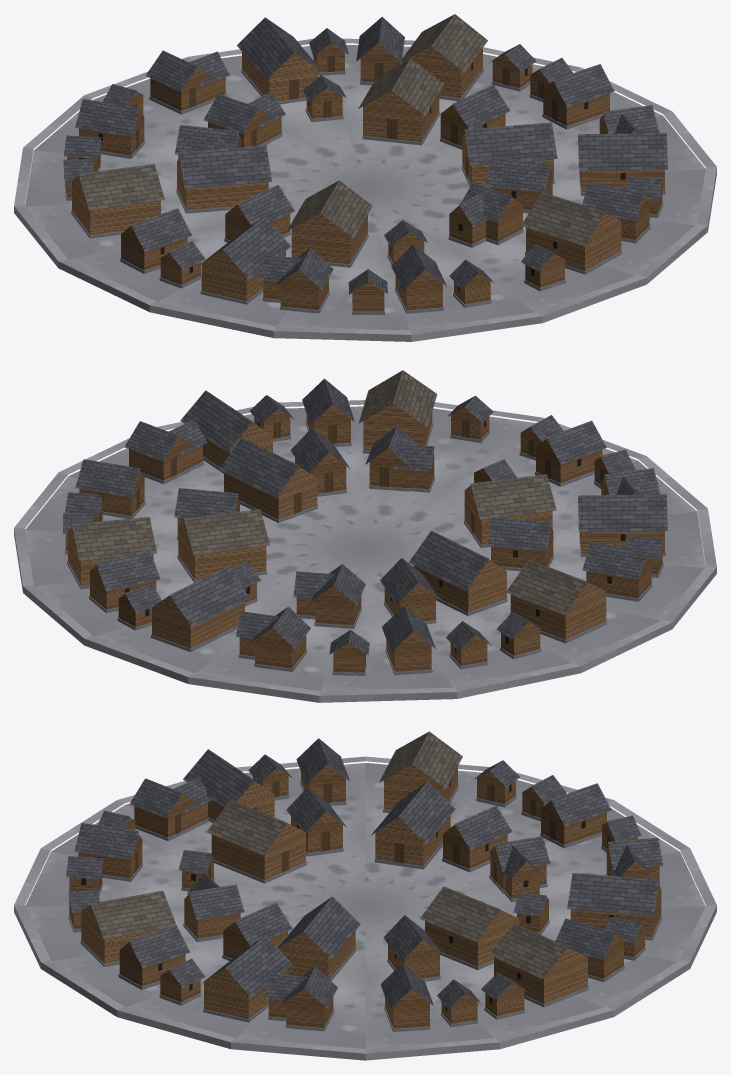
File: ae_snow_village_large_lod2.glb
3 views of the same model, one above another, from view 1: azimuth 30°, elevation 25°; view 2: azimuth 150°, elevation 25°; view 3: azimuth 270°, elevation 25° (orthographic).
Visible parts, largest first — view 1: ae_snow_village_large_lod2; view 2: ae_snow_village_large_lod2; view 3: ae_snow_village_large_lod2.
Part boxes in pixels (box(x1,y1,x2,y2)): ae_snow_village_large_lod2: box(14, 14, 716, 341); ae_snow_village_large_lod2: box(14, 370, 716, 702); ae_snow_village_large_lod2: box(14, 731, 716, 1060).
Bounding box in the file's own units: 1.9 × 0.1715 × 1.9.
1 material, 1 textured.
